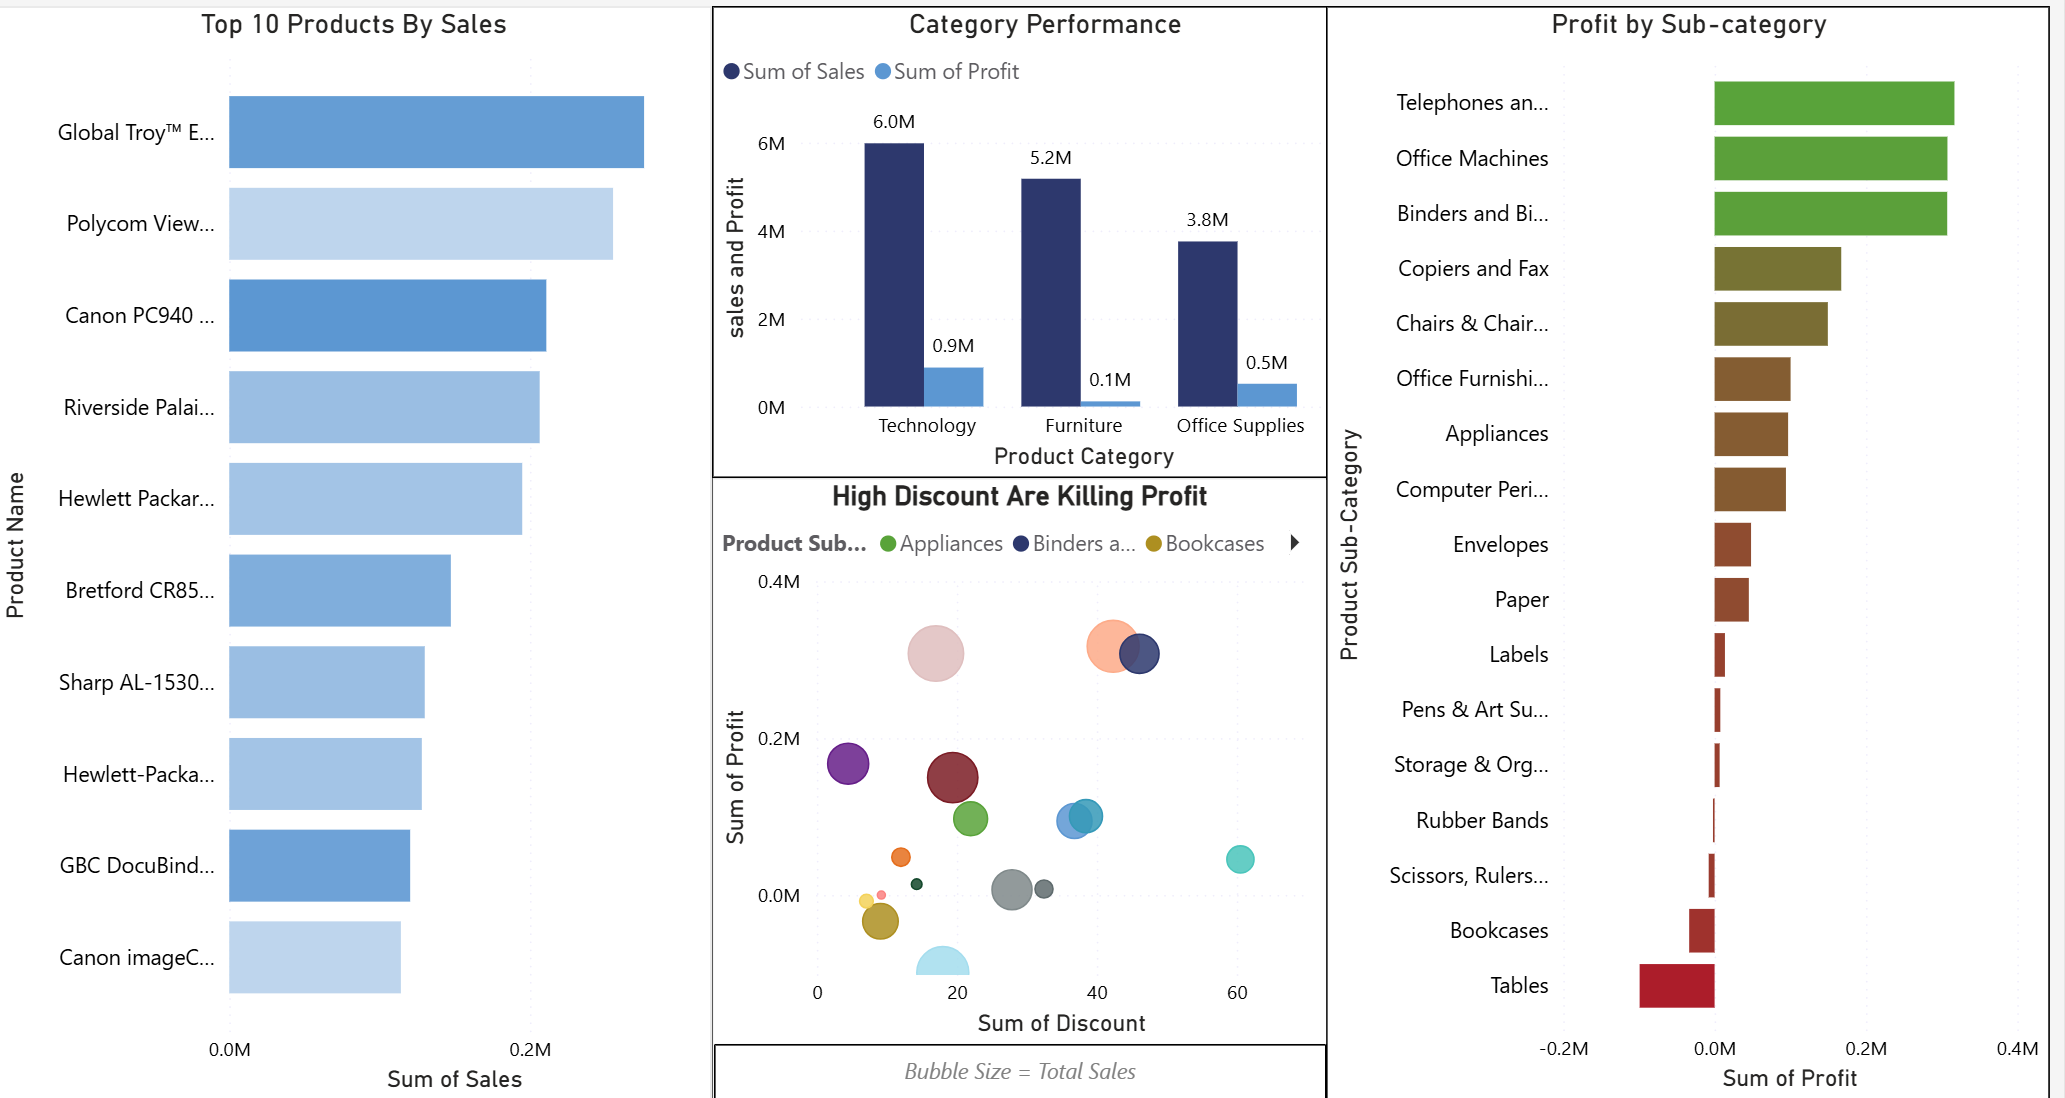

This screenshot's page, from the dashboard's own definition file:
{"tool":"powerbi","page":{"name":"Product Analysis","canvas":[1280,720],"ordinal":1},"visuals":[{"type":"barChart","title":"Top 10 Products By Sales","fields":{"Y":["Sum(Orders.Sales)"],"Category":["Orders.Product Name"]},"box":[0,13.3,445,676.7],"z":0},{"type":"clusteredColumnChart","title":"Category Performance","fields":{"Category":["Orders.Product Category"],"Y":["Sum(Orders.Sales)","Sum(Orders.Profit)"]},"box":[445,13.3,410,291.7],"z":1000},{"type":"barChart","title":"Profit by Sub-category","fields":{"Y":["Sum(Orders.Profit)"],"Category":["Orders.Product Sub-Category"]},"box":[823.7,13.3,446.9,676],"z":2000},{"type":"scatterChart","title":"High Discounts Are Killing Profit","fields":{"X":["Sum(Orders.Discount)"],"Y":["Sum(Orders.Profit)"],"Series":["Orders.Product Sub-Category"],"Size":["Sum(Orders.Sales)"]},"box":[446,306,378,348],"z":3000},{"type":"textbox","box":[446,654,378,36],"z":4000}]}

Visuals, with their boxes on the page's 1280x720 design canvas (x1, y1, x2, y2). These are canvas units, not pixel positions in the 2065x1098 screenshot, which may show the page scaled, cropped or inside an application window:
"Top 10 Products By Sales" barChart: {"x1": 0, "y1": 13, "x2": 445, "y2": 690}
"Category Performance" clusteredColumnChart: {"x1": 445, "y1": 13, "x2": 855, "y2": 305}
"Profit by Sub-category" barChart: {"x1": 824, "y1": 13, "x2": 1271, "y2": 689}
"High Discounts Are Killing Profit" scatterChart: {"x1": 446, "y1": 306, "x2": 824, "y2": 654}
textbox: {"x1": 446, "y1": 654, "x2": 824, "y2": 690}
